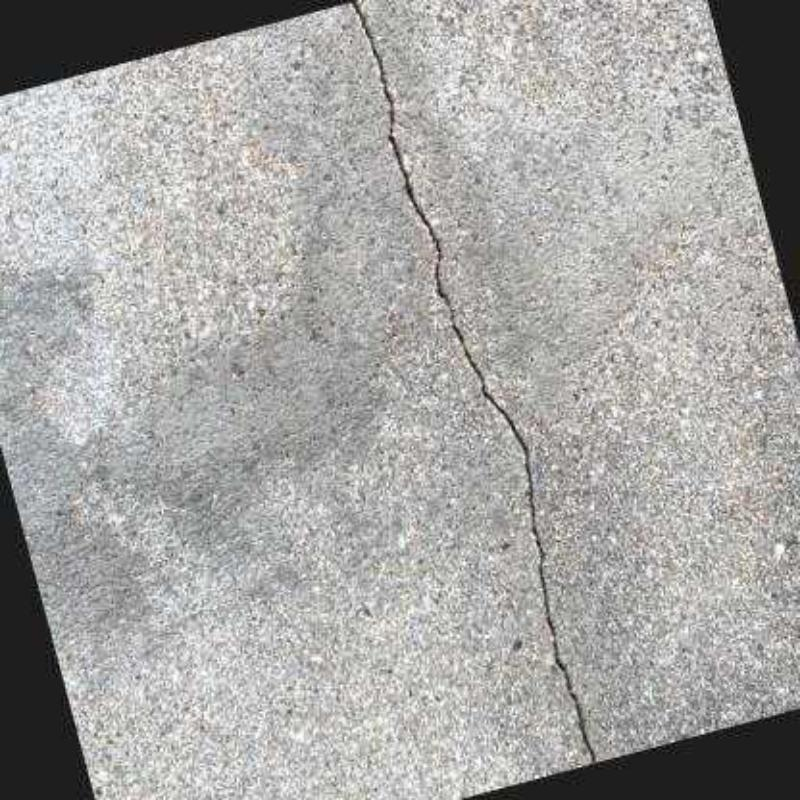pothole: (352, 1, 596, 765)
